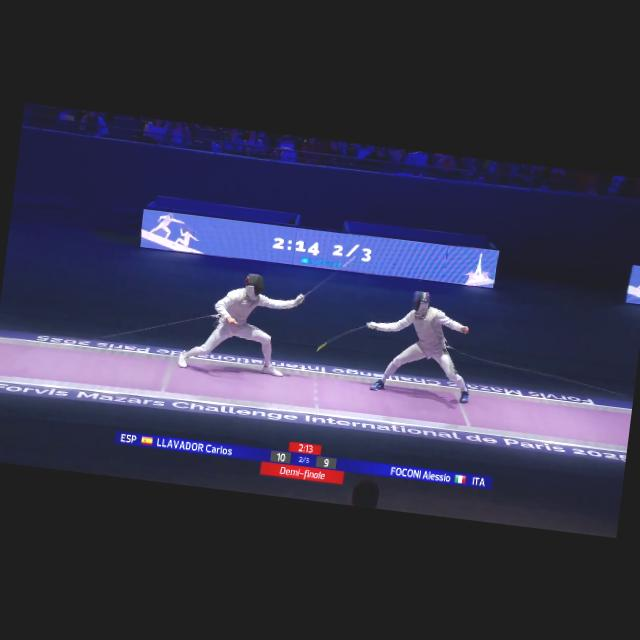blade: (296, 243, 360, 308), (314, 313, 376, 362)
